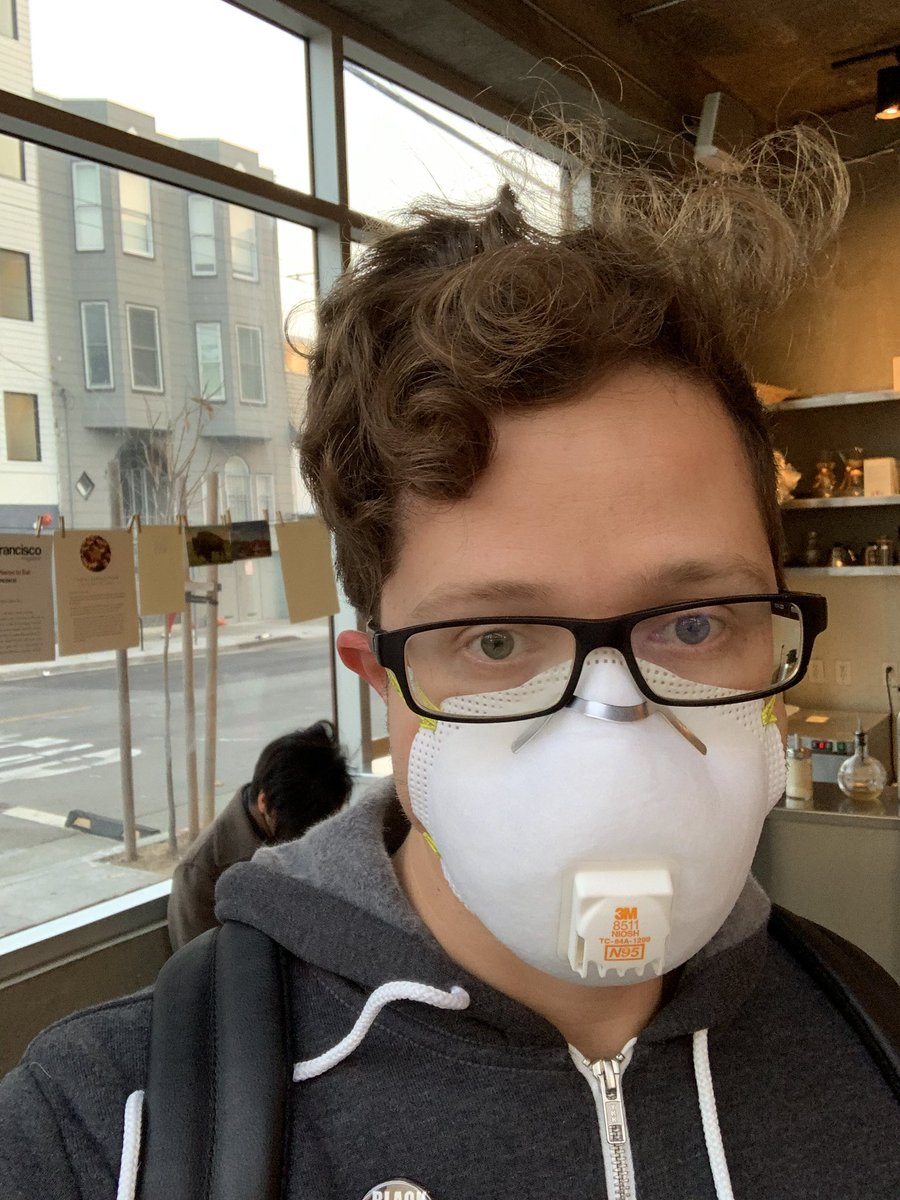n95: (388, 657, 805, 989)
